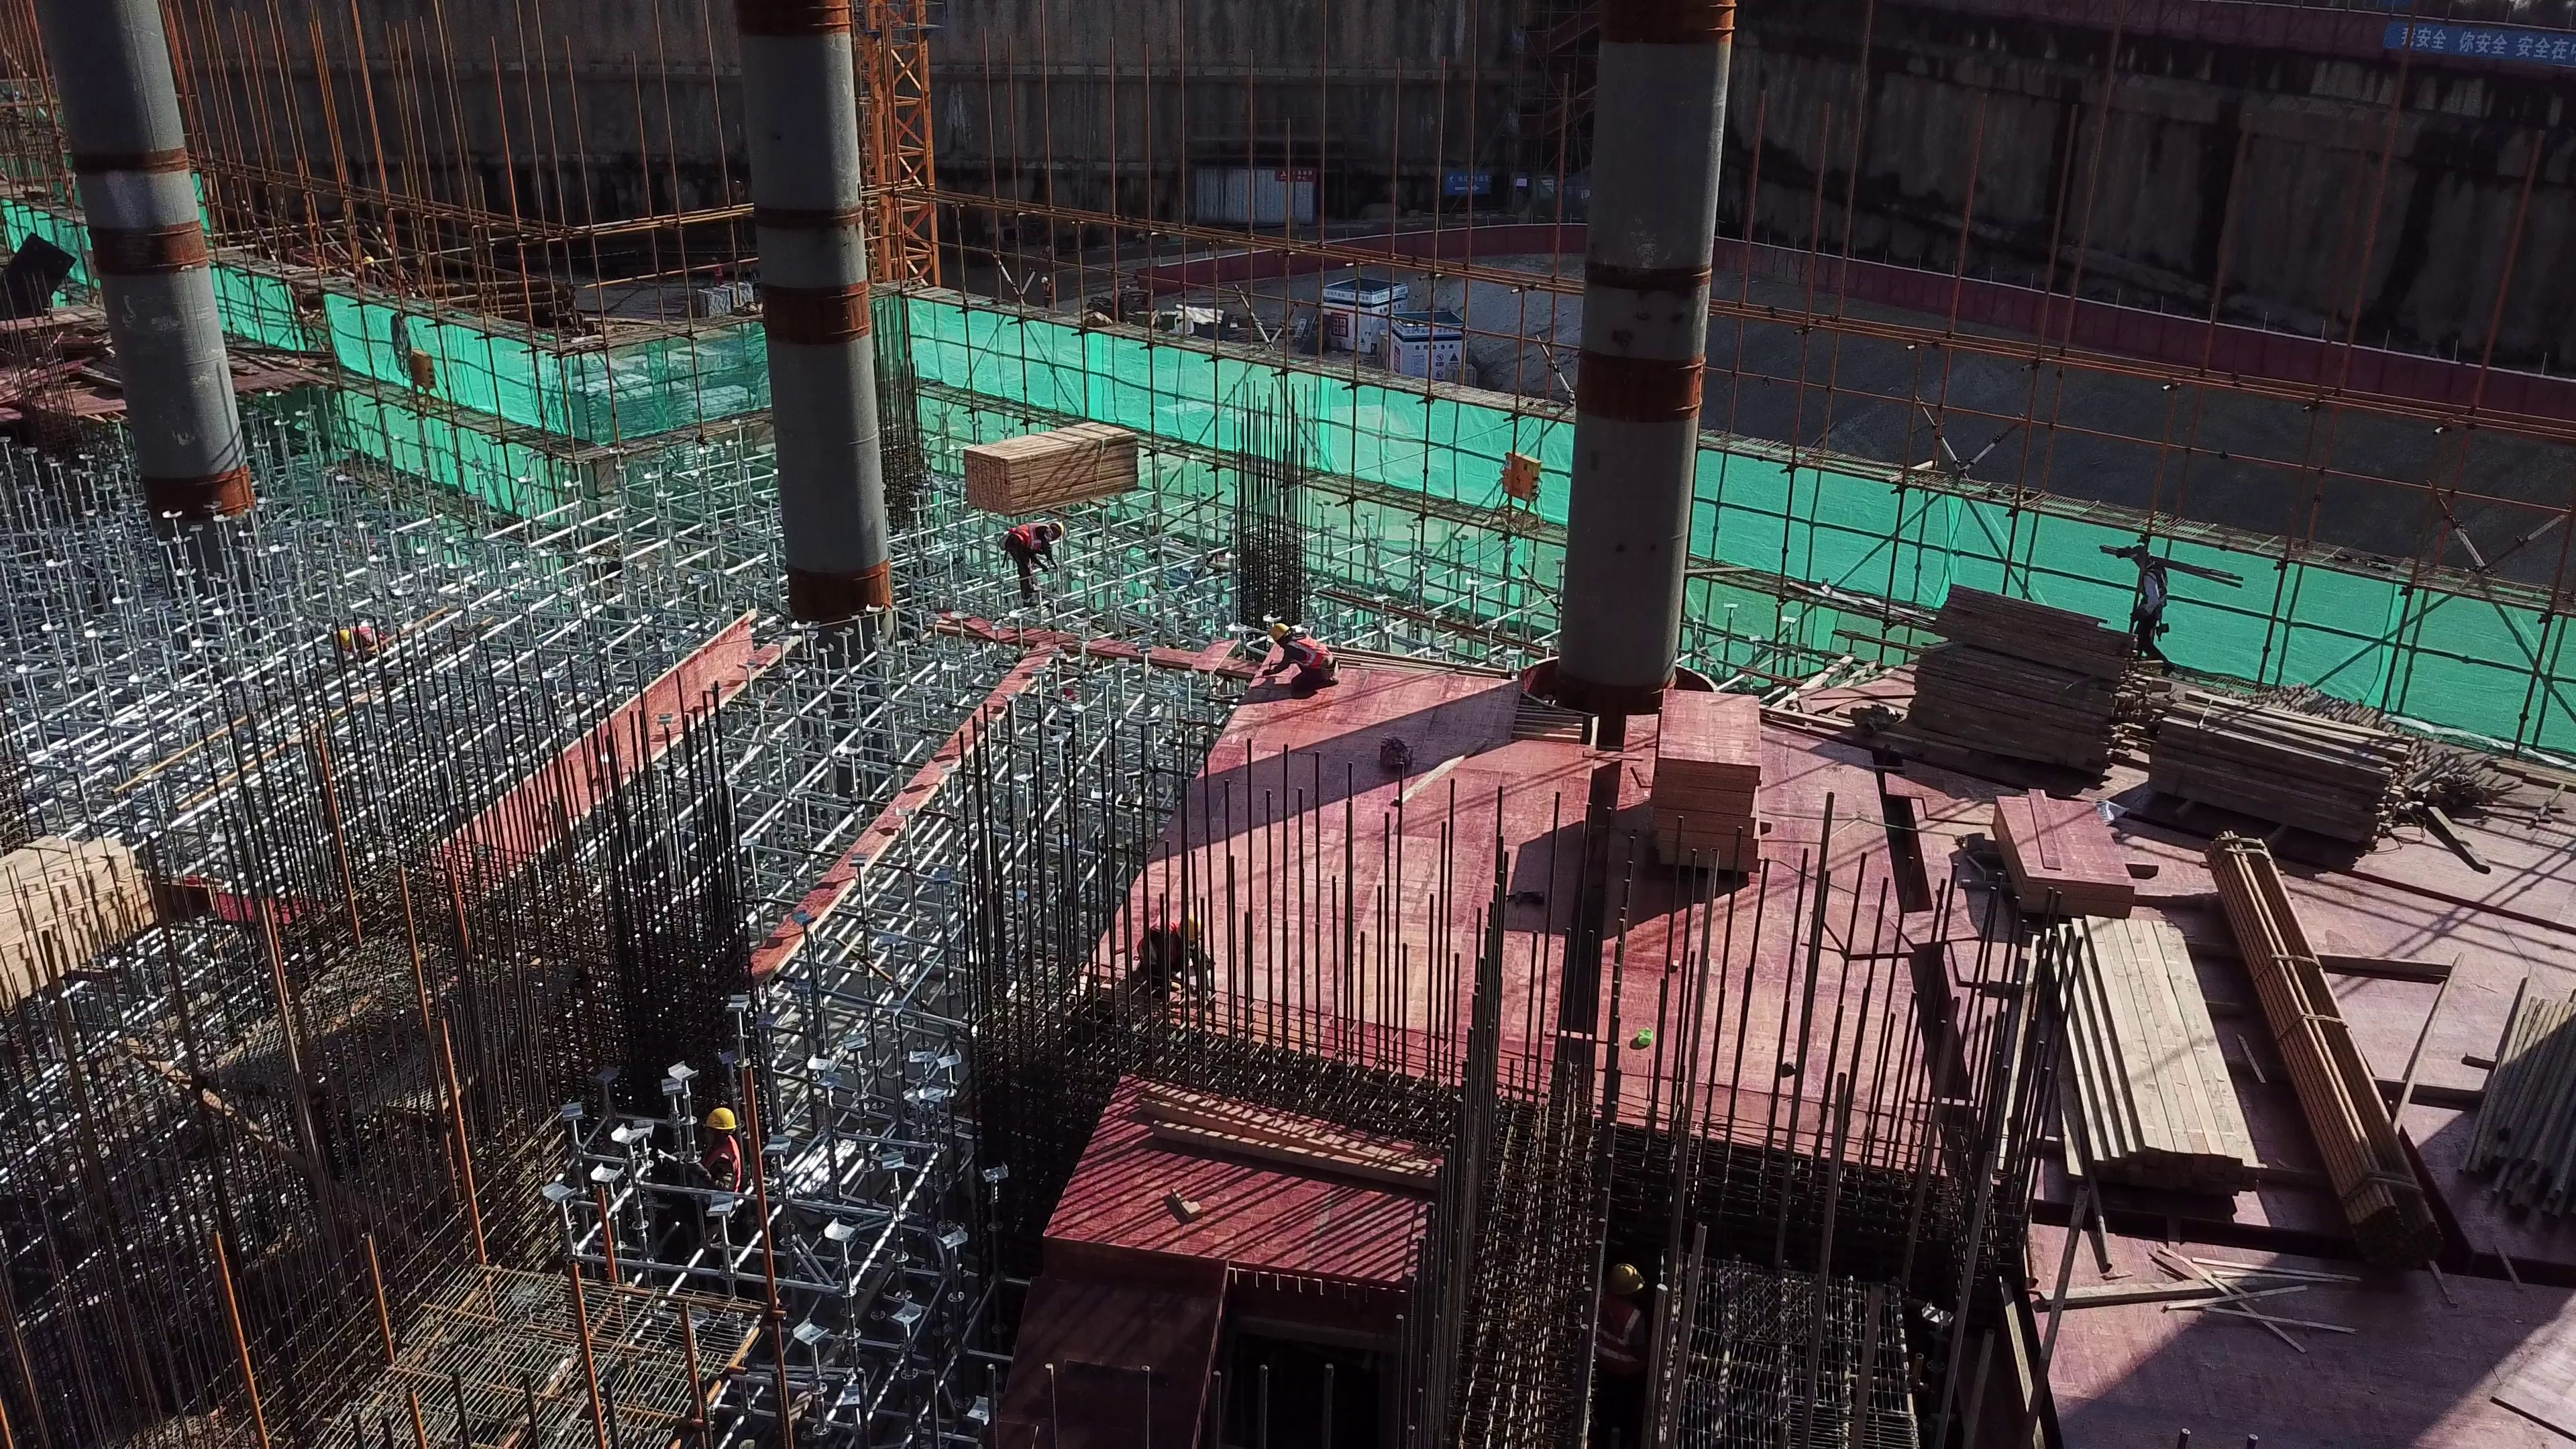helmet: (1608, 1262, 1647, 1296), (1179, 913, 1206, 945), (707, 1112, 741, 1132), (1270, 623, 1291, 645), (1048, 521, 1066, 539), (2130, 545, 2151, 559), (364, 255, 376, 267), (1040, 277, 1049, 283)
person: (1256, 610, 1356, 709), (2125, 543, 2196, 678), (1592, 1257, 1659, 1395), (688, 1103, 755, 1240), (1128, 907, 1223, 998), (996, 517, 1078, 610), (356, 252, 391, 296), (1039, 276, 1065, 316)
vest: (1595, 1299, 1645, 1375), (696, 1136, 743, 1218), (1133, 915, 1179, 973), (1286, 634, 1339, 680), (2131, 563, 2173, 622), (1005, 519, 1055, 563), (1042, 284, 1053, 299)
